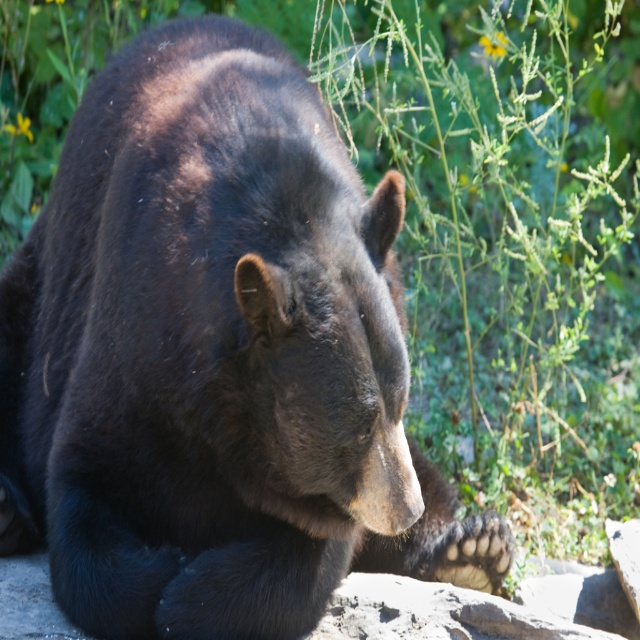Bear: (0, 10, 515, 640)
